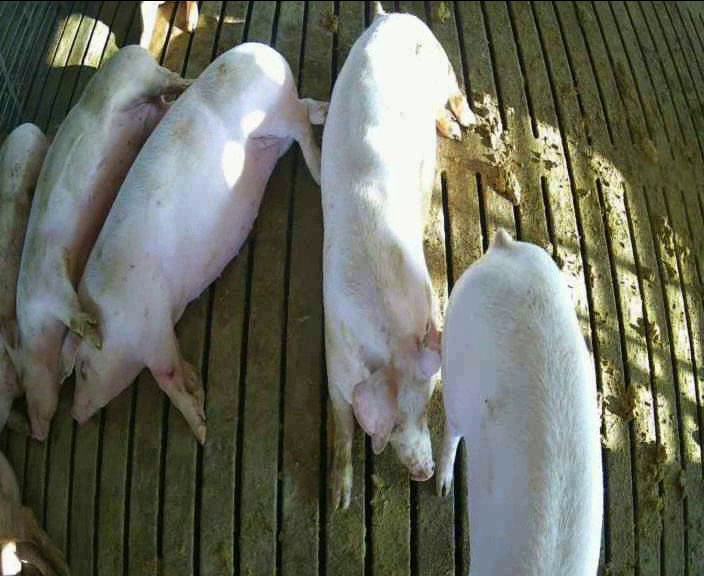pig: (72, 43, 329, 442), (321, 1, 475, 507), (2, 46, 187, 439), (437, 229, 602, 574)
